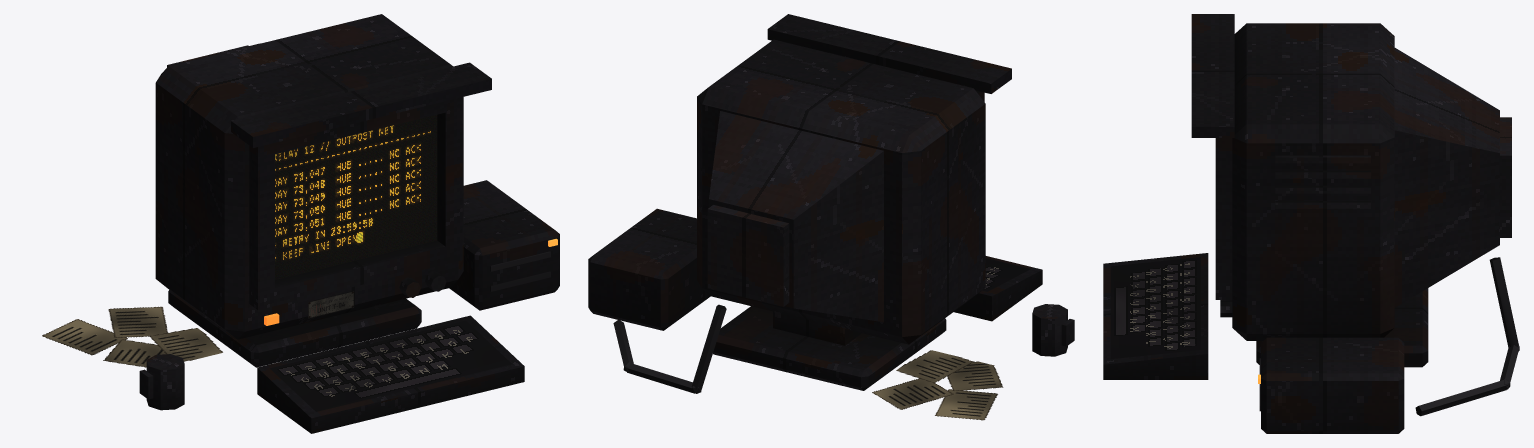
Rendered from terminal_crt.glb.
The picture shows the model from 3 angles, left to right: view 1: azimuth 30°, elevation 25°; view 2: azimuth 150°, elevation 25°; view 3: azimuth 270°, elevation 25°; orthographic projection. The views are drawn at different scales.
Visible parts, largest first — view 1: body, screens, panels, decals; view 2: body, decals, panels; view 3: body, panels.
Part boxes in pixels (<box>): body: <box>139,14,559,433</box>; screens: <box>275,115,437,279</box>; panels: <box>270,320,511,411</box>; decals: <box>42,291,354,367</box>; body: <box>588,14,1074,393</box>; decals: <box>872,350,1003,420</box>; panels: <box>982,258,1030,291</box>; body: <box>1103,14,1519,433</box>; panels: <box>1110,257,1200,359</box>.
Size of what is drawn, in the model's own units: 1.05 by 0.5989 by 0.8714.
Materials: 9 (6 with a texture image).
